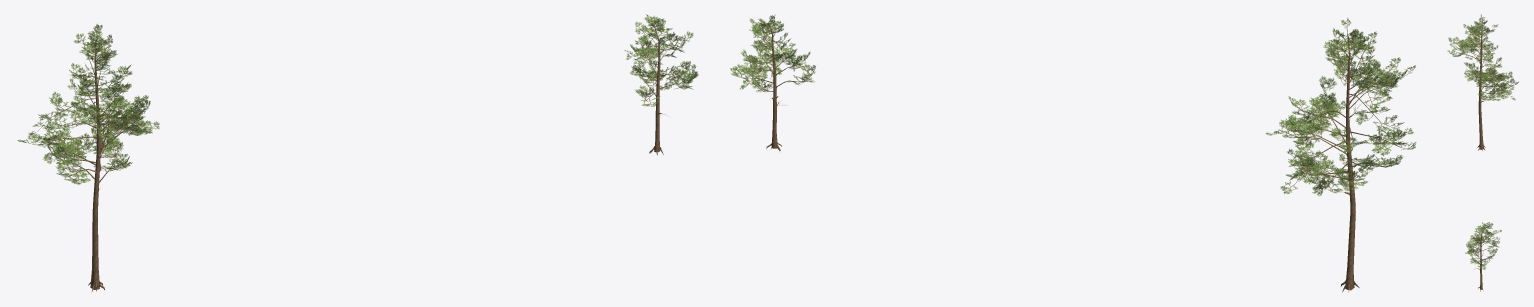
Rendered from pine-forest-lod2.glb.
The picture shows the model from 3 angles, left to right: view 1: azimuth 30°, elevation 25°; view 2: azimuth 150°, elevation 25°; view 3: azimuth 270°, elevation 25°; orthographic projection. The views are drawn at different scales.
Visible parts, largest first — view 1: Pine_large_1_LOD2, Pine_big_2_LOD2; view 2: Pine_large_1_LOD2, Pine_big_2_LOD2; view 3: Pine_large_1_LOD2, Pine_big_2_LOD2.
Boxes of the visible parts, x1,y1,x2,y2 form: Pine_large_1_LOD2: (17,24,159,292); Pine_big_2_LOD2: (624,14,698,155); Pine_large_1_LOD2: (1265,18,1416,292); Pine_big_2_LOD2: (730,14,815,151); Pine_large_1_LOD2: (1447,14,1518,150); Pine_big_2_LOD2: (1465,222,1501,291).
Size of the model in its own units: 84.4 by 32.04 by 15.45.
Materials: 2 (2 with a texture image).
